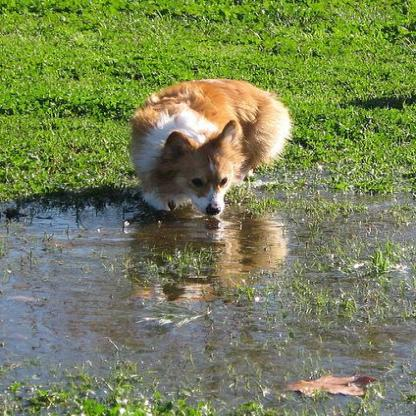Pembroke: (124, 76, 293, 217)
